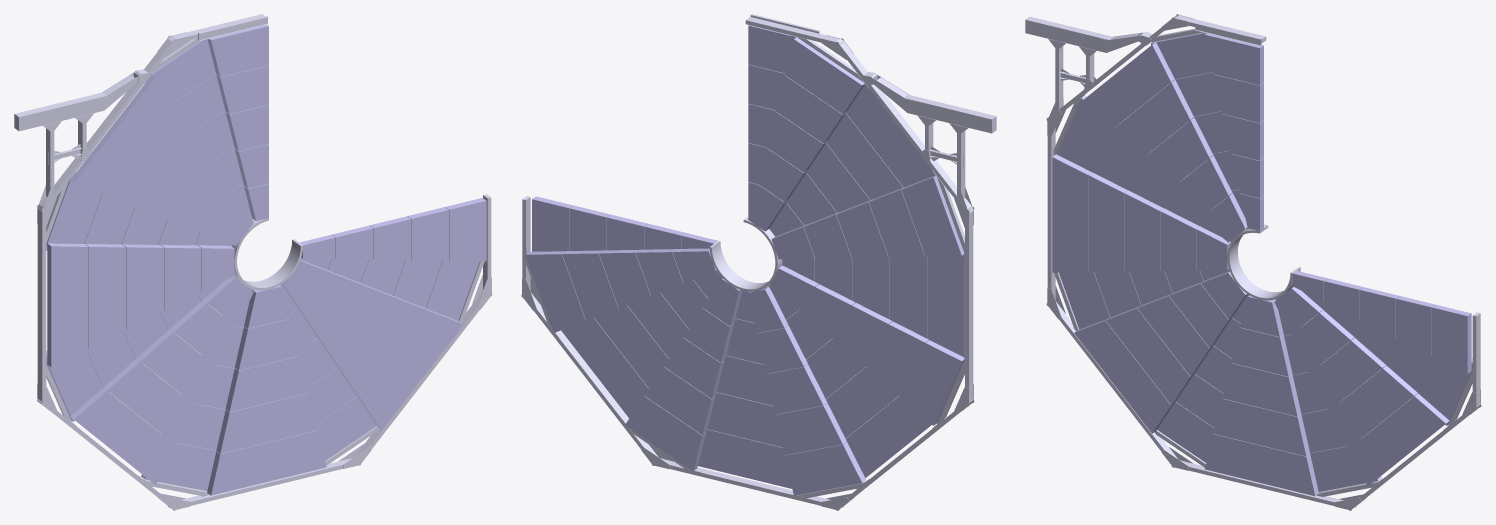
Rendered from Muon-Big-Wheel-MDT-SideA-cut4.glb.
The picture shows the model from 3 angles, left to right: view 1: azimuth 30°, elevation 25°; view 2: azimuth 150°, elevation 25°; view 3: azimuth 330°, elevation 25°; orthographic projection. The views are drawn at different scales.
Visible parts, largest first — view 1: S__2FBDB868, S__2D0B1468; view 2: S__2FBDB868, S__2D0B1468; view 3: S__2FBDB868, S__2D0B1468.
Boxes of the visible parts, left/top/right/bottom form: S__2FBDB868: left=46, top=24, right=486, bottom=495; S__2D0B1468: left=14, top=14, right=492, bottom=510; S__2FBDB868: left=525, top=25, right=964, bottom=495; S__2D0B1468: left=521, top=14, right=996, bottom=510; S__2FBDB868: left=1052, top=32, right=1472, bottom=496; S__2D0B1468: left=1025, top=14, right=1481, bottom=510.
Bounding box in the file's own units: 24.55 × 23.42 × 0.78.
